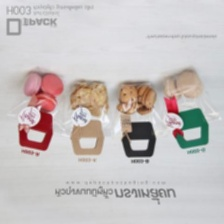snack: (153, 61, 224, 154), (2, 63, 73, 155), (107, 78, 171, 162), (57, 77, 115, 160)
